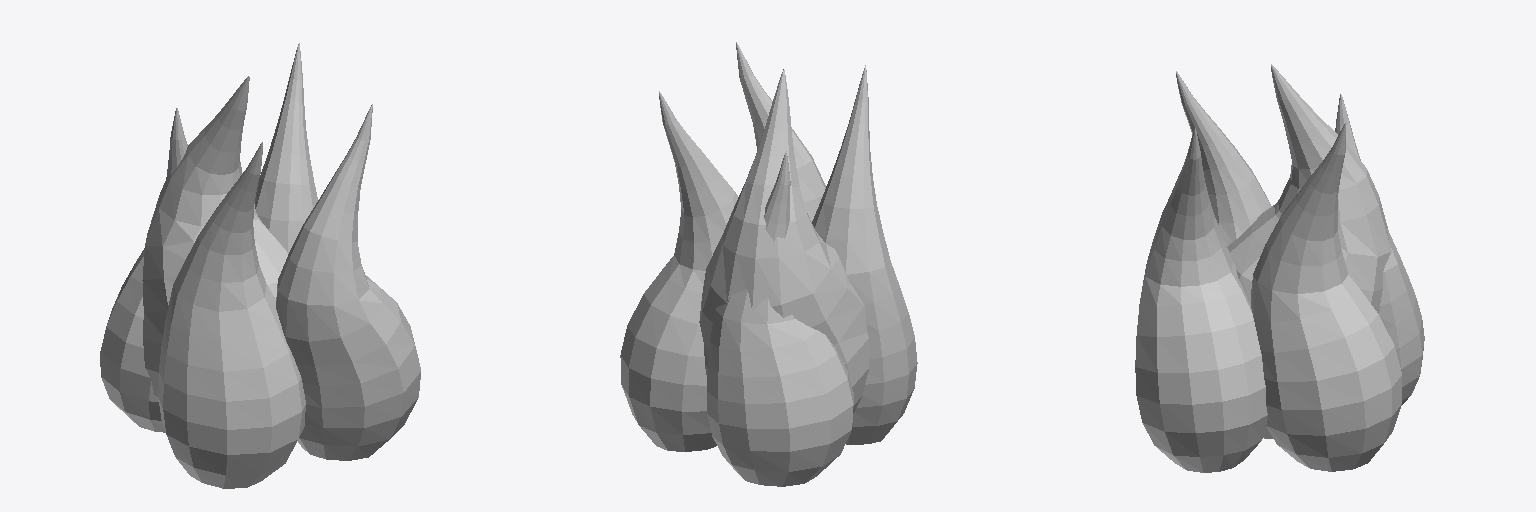
The model's file is fire_000016.obj.
3 views of the same model, side by side, from view 1: azimuth 30°, elevation 25°; view 2: azimuth 150°, elevation 25°; view 3: azimuth 270°, elevation 25° (orthographic).
Visible parts, largest first — view 1: flame_NurbsPath.015; view 2: flame_NurbsPath.015; view 3: flame_NurbsPath.015.
Boxes of the visible parts, x1,y1,x2,y2 form: flame_NurbsPath.015: [100, 43, 420, 488]; flame_NurbsPath.015: [620, 42, 917, 486]; flame_NurbsPath.015: [1135, 64, 1424, 472].
Size of the model in its own units: 0.7538 by 1.15 by 0.8079.